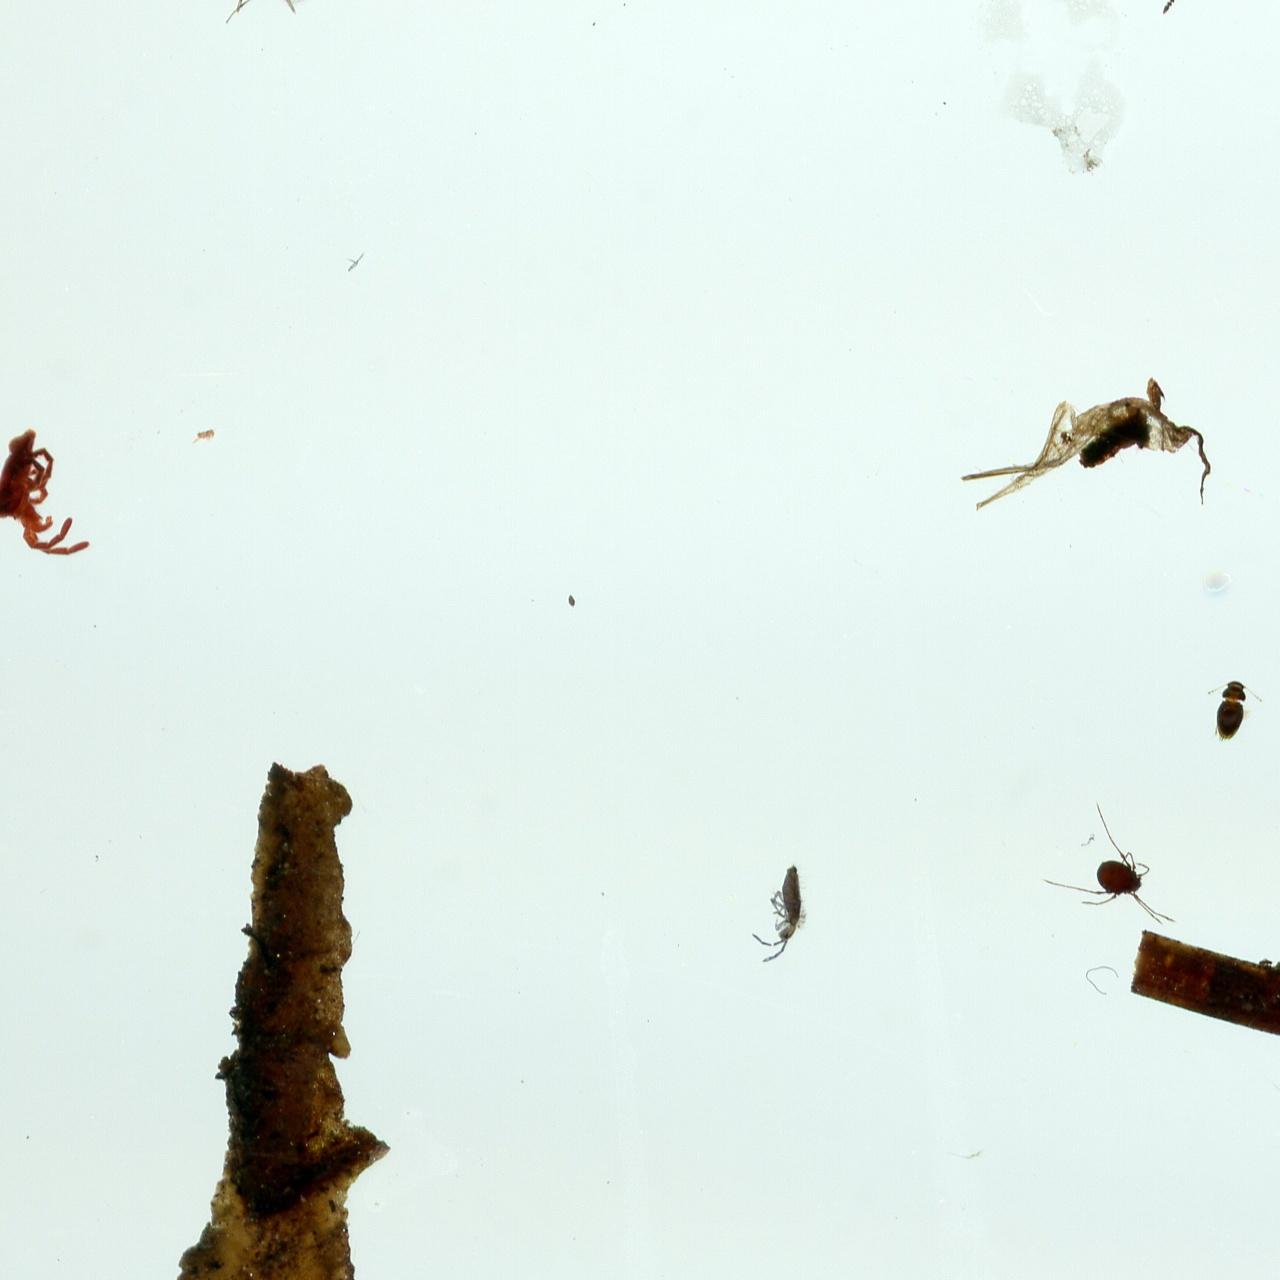arthropod: (1033, 792, 1184, 931), (0, 414, 98, 571), (1114, 0, 1280, 52), (748, 858, 815, 974), (1199, 669, 1269, 748), (165, 0, 319, 33)
